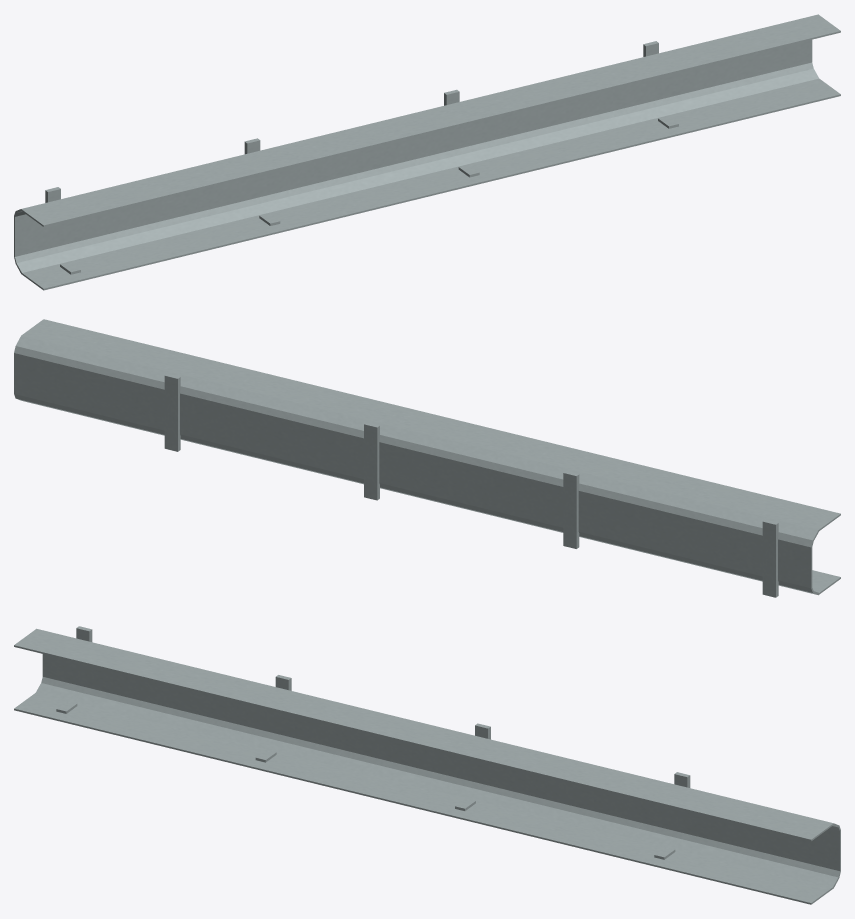
File: Gutter_Straight_2m.glb
3 renders of one model, top to bottom at view 1: azimuth 30°, elevation 25°; view 2: azimuth 150°, elevation 25°; view 3: azimuth 330°, elevation 25°, orthographic.
Parts seen in each view (by area): view 1: Corrugated_Seamless_Gutter_Shell; view 2: Corrugated_Seamless_Gutter_Shell, Gutter_Hanger_Strap_01, Gutter_Hanger_Strap_02, Gutter_Hanger_Strap_04, Gutter_Hanger_Strap_03; view 3: Corrugated_Seamless_Gutter_Shell.
Boxes of the visible parts, bbox=[...] form: Corrugated_Seamless_Gutter_Shell: bbox=[14, 14, 840, 290]; Corrugated_Seamless_Gutter_Shell: bbox=[14, 319, 840, 595]; Gutter_Hanger_Strap_01: bbox=[762, 519, 778, 597]; Gutter_Hanger_Strap_02: bbox=[563, 471, 579, 548]; Gutter_Hanger_Strap_04: bbox=[164, 373, 180, 451]; Gutter_Hanger_Strap_03: bbox=[364, 422, 379, 500]; Corrugated_Seamless_Gutter_Shell: bbox=[14, 628, 840, 904].
Size of the model in its own units: 2 by 0.178 by 0.138.
2 materials, 2 textured.
